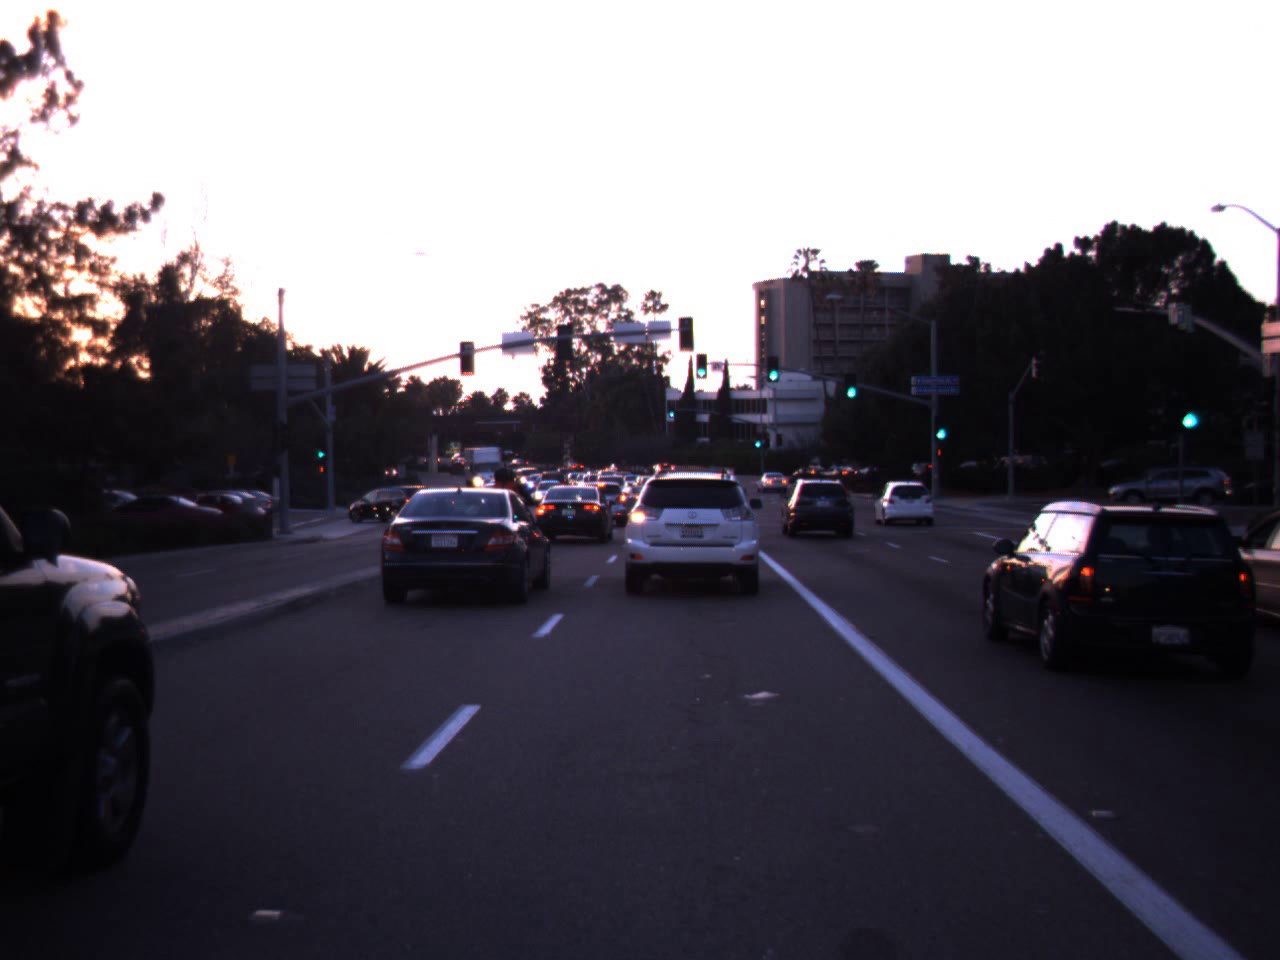go: (1169, 368, 1211, 433), (841, 361, 862, 401), (932, 402, 950, 442), (691, 354, 712, 379), (763, 358, 784, 378), (665, 398, 677, 418), (752, 428, 764, 448), (315, 439, 327, 459)
